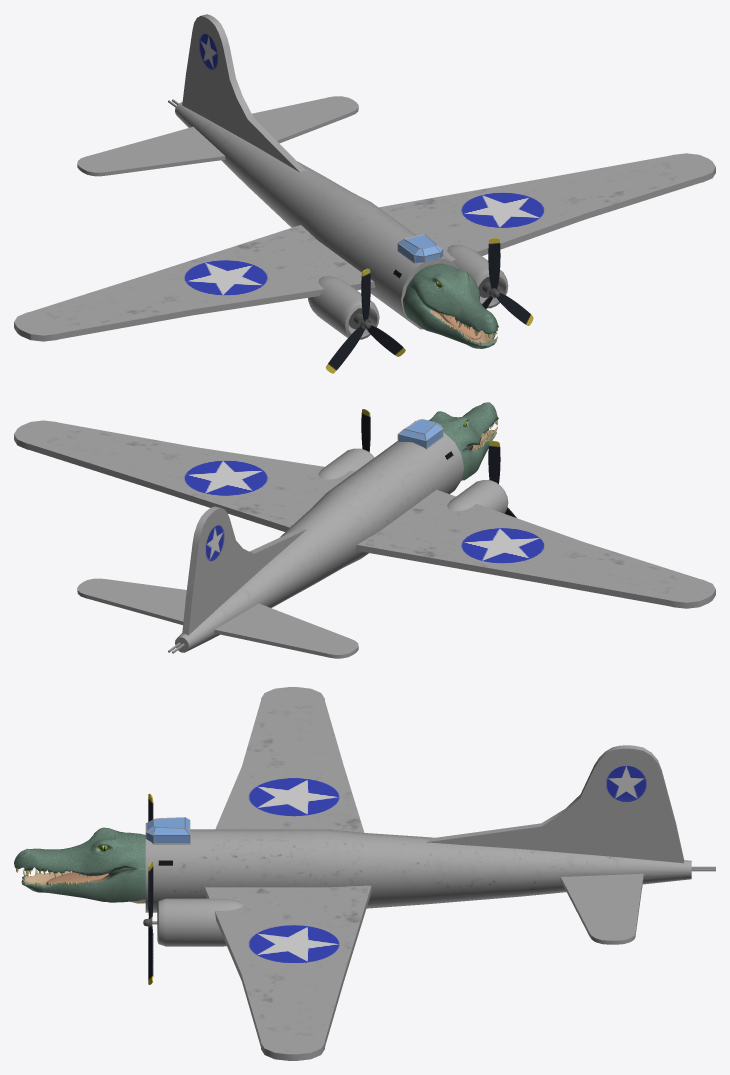
The model's file is bombardiro-crocodilo.fbx.
3 renders of one model, top to bottom at view 1: azimuth 30°, elevation 25°; view 2: azimuth 150°, elevation 25°; view 3: azimuth 270°, elevation 25°, orthographic. The views are drawn at different scales.
Visible parts, largest first — view 1: AirplaneWindow1, Head1; view 2: AirplaneWindow1, Head1; view 3: AirplaneWindow1, Head1.
Boxes of the visible parts, box(x1,y1,x2,y2) form: AirplaneWindow1: box(14, 14, 715, 373); Head1: box(403, 263, 498, 348); AirplaneWindow1: box(14, 409, 715, 658); Head1: box(428, 402, 498, 480); AirplaneWindow1: box(143, 687, 715, 1060); Head1: box(14, 827, 145, 903).
Size of the model in its own units: 925 by 219 by 747.
3 materials, 3 textured.
